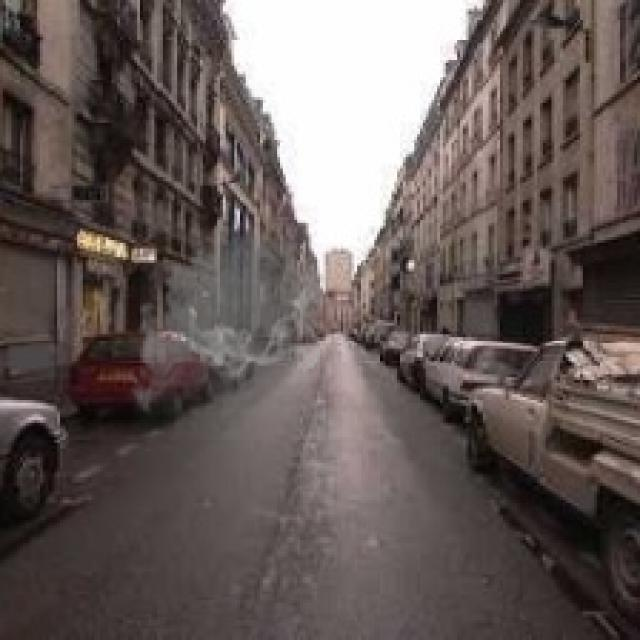smoke: (125, 214, 328, 440)
